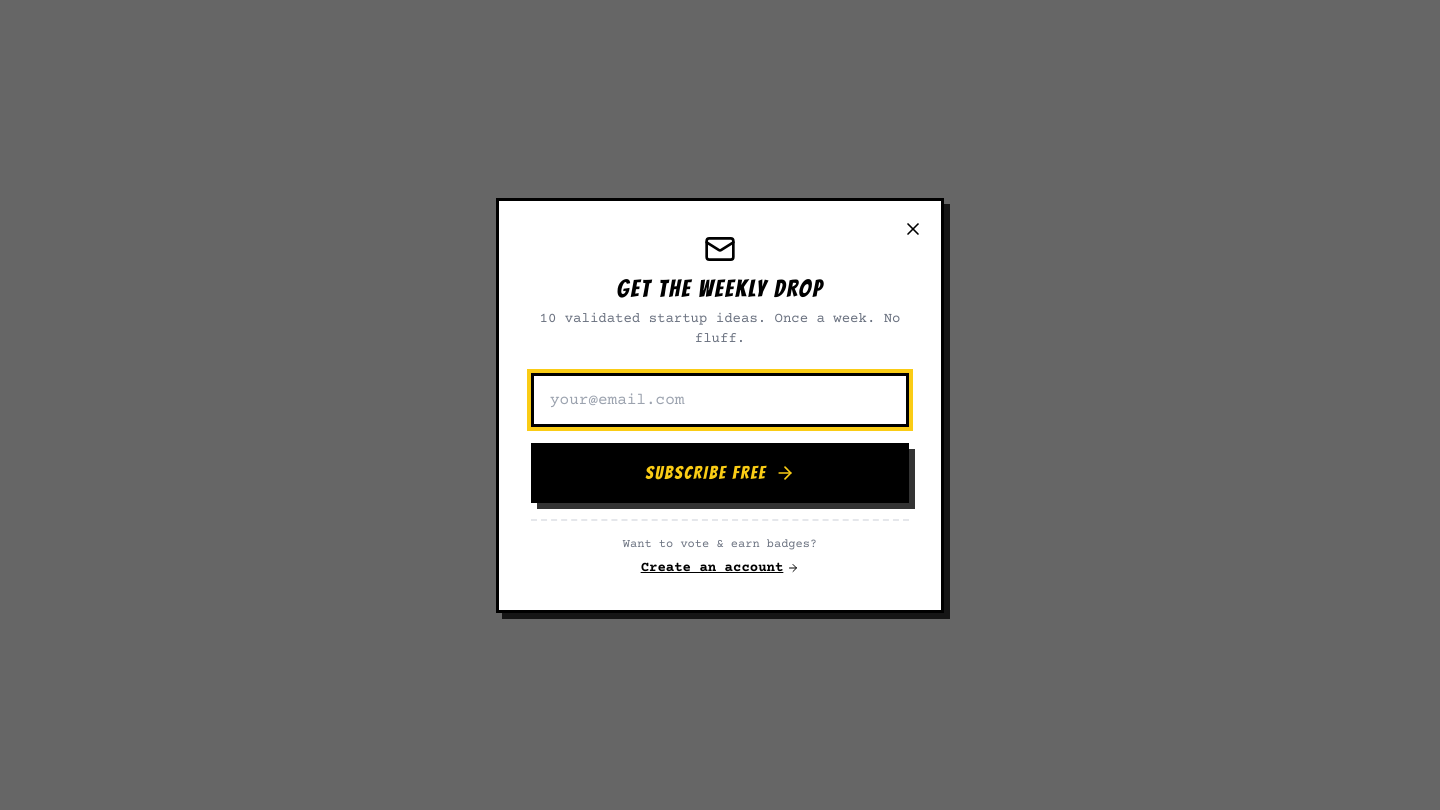
it: SubscribeModal › shows error message on failed subscription
The width and height of the screenshot is (1440, 810).
In the field with placeholder "your@email.com": (720, 400) [531,372,909,426], type "test@example.com"
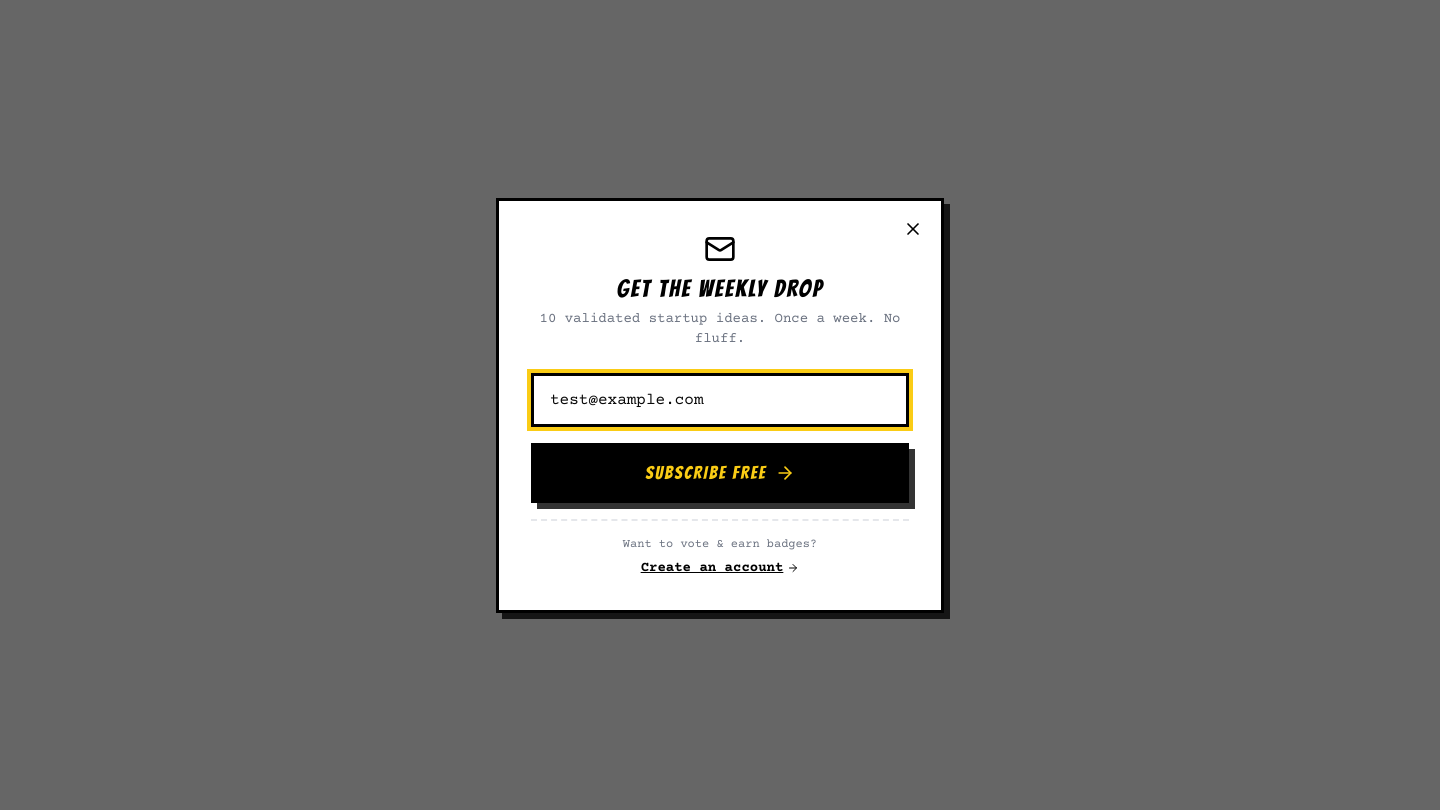
Click the button "SUBSCRIBE FREE": (720, 472) [531,442,909,502]
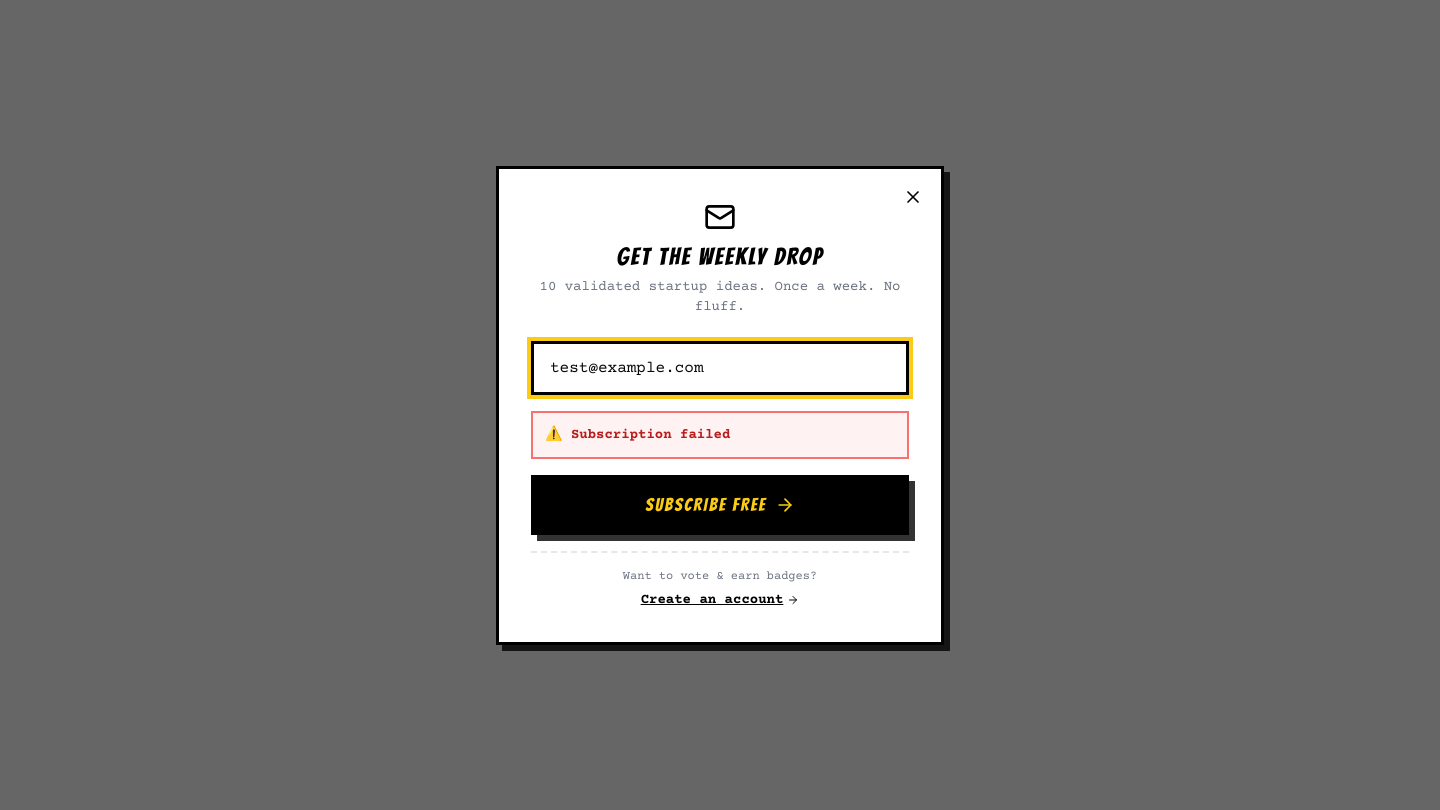
Expected: the text "⚠️ Subscription failed" is shown, [531,410,909,458]
